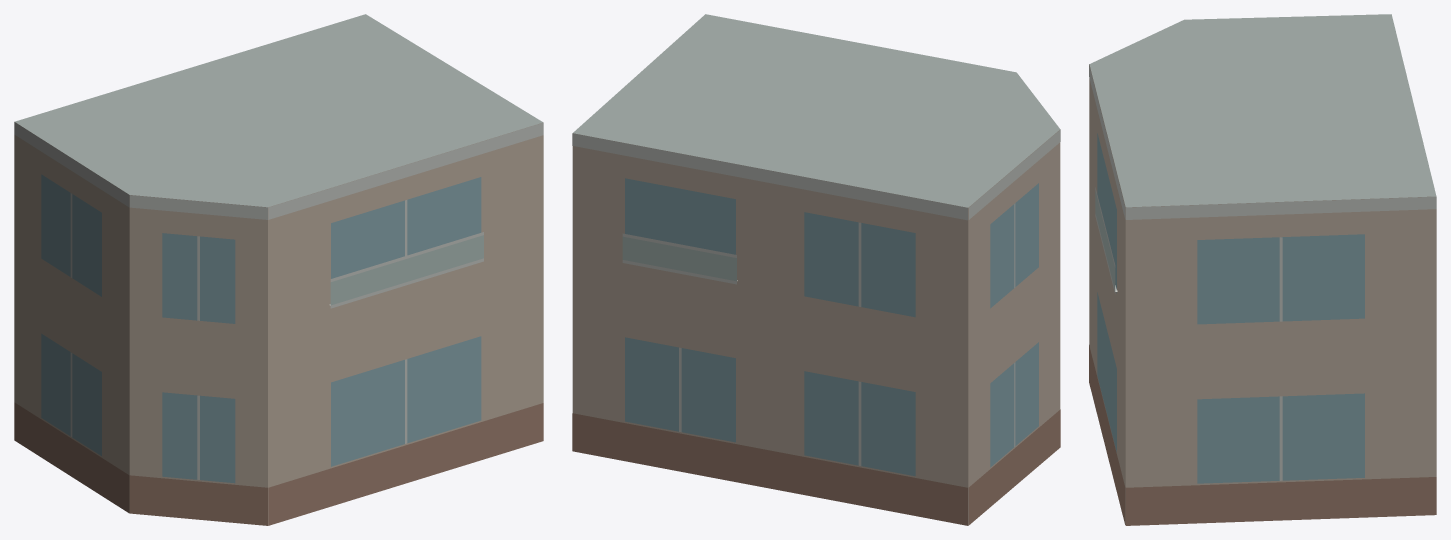
The model's file is survey-upis-33010422.glb.
3 views of the same model, side by side, from view 1: azimuth 30°, elevation 25°; view 2: azimuth 150°, elevation 25°; view 3: azimuth 270°, elevation 25° (orthographic).
Visible parts, largest first — view 1: survey-upis-33010422.tmp; view 2: survey-upis-33010422.tmp; view 3: survey-upis-33010422.tmp.
Part boxes in pixels (x1=…): survey-upis-33010422.tmp: x1=14, y1=14, x2=543, y2=525; survey-upis-33010422.tmp: x1=572, y1=14, x2=1060, y2=525; survey-upis-33010422.tmp: x1=1089, y1=14, x2=1436, y2=525.
Size of the model in its own units: 7.95 by 6.1 by 6.04.
